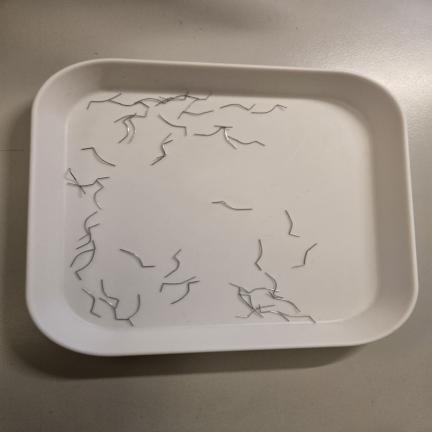probe: (120, 248, 155, 268), (171, 280, 200, 304), (81, 147, 116, 166), (158, 114, 187, 135), (293, 243, 317, 268), (160, 276, 196, 292), (82, 288, 101, 317), (164, 249, 181, 277), (285, 210, 300, 237), (212, 201, 253, 210), (251, 105, 287, 113), (255, 239, 263, 270), (220, 104, 255, 111)
